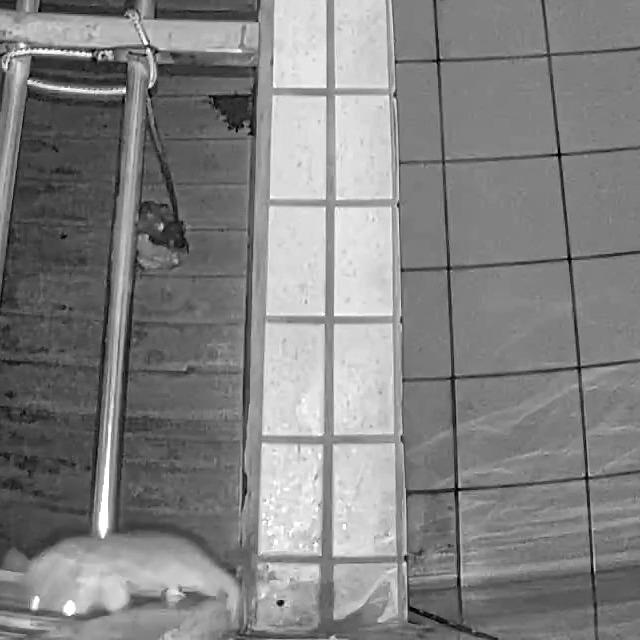rat: (6, 530, 240, 624)
